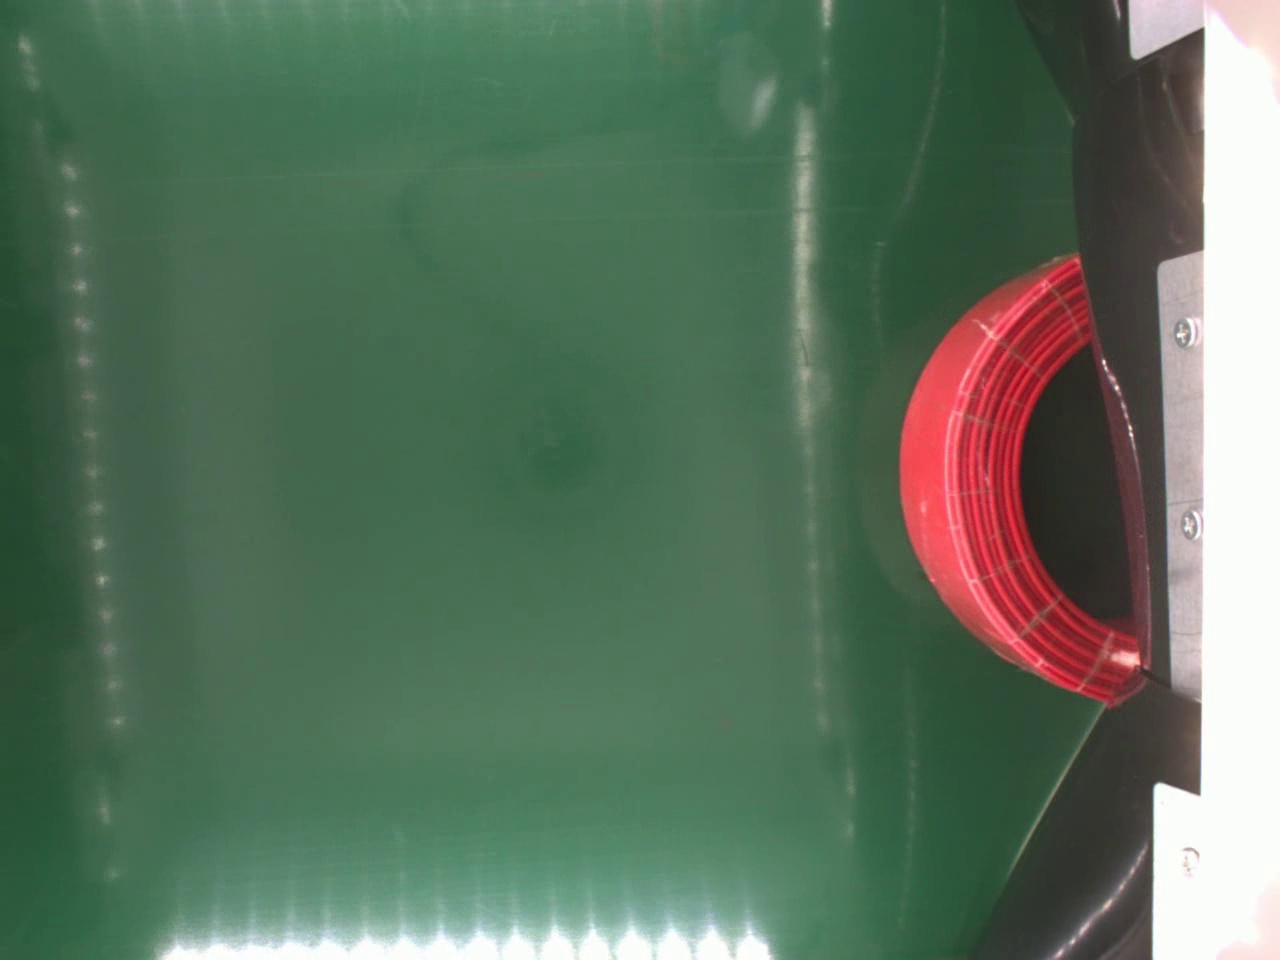red: (898, 253, 1135, 703)
